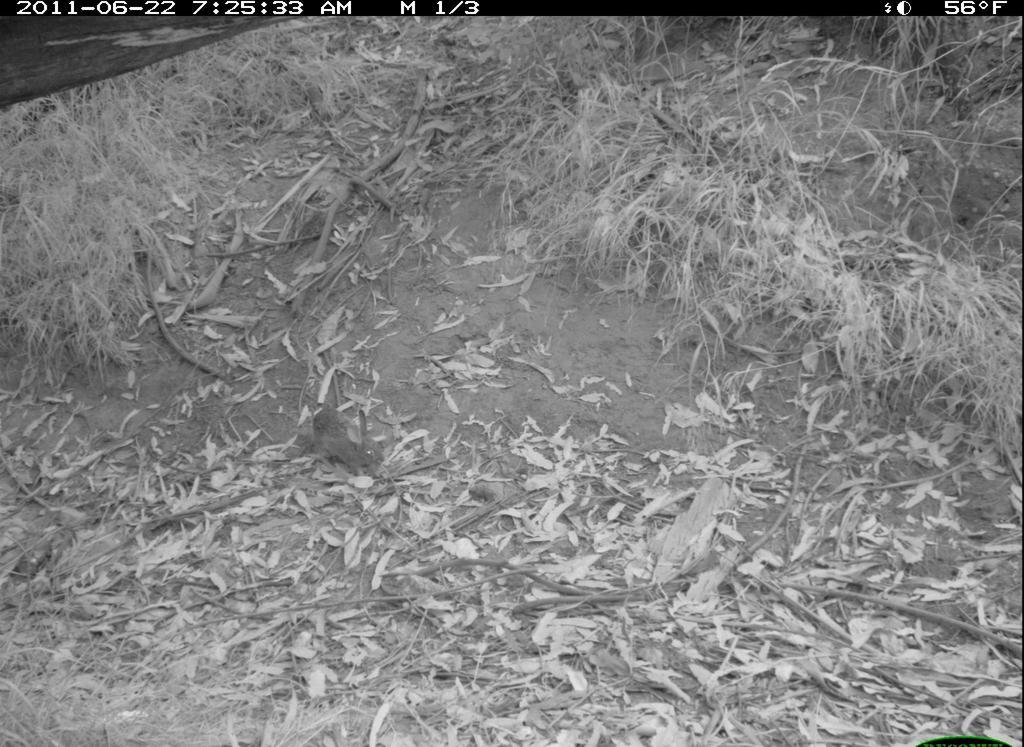rabbit: (312, 397, 390, 479)
